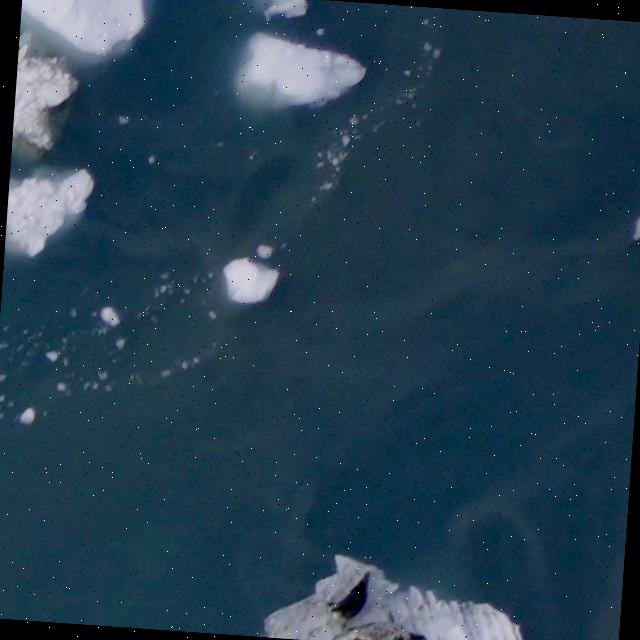seal: (323, 566, 384, 627), (332, 622, 424, 640)
